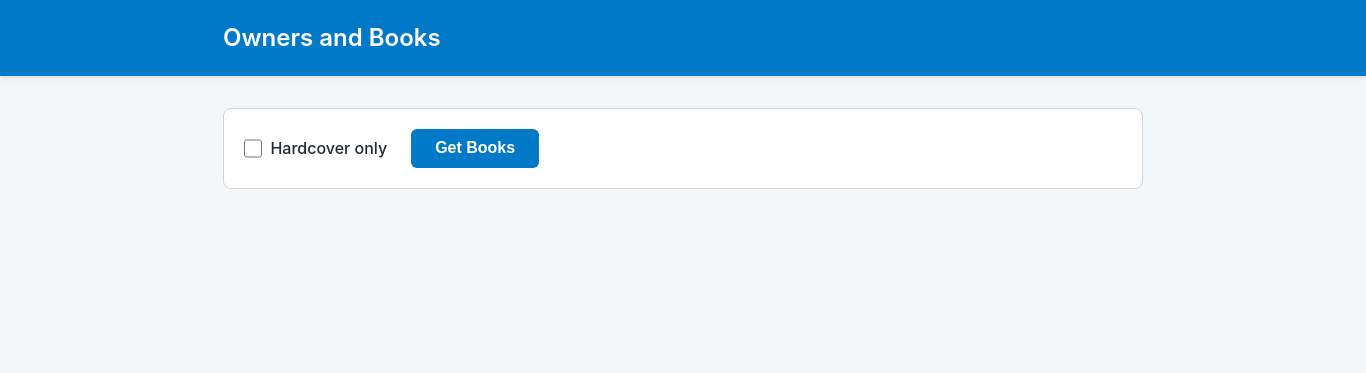
Scenario: App › fetches and displays categorized books when Get Books is clicked
Click the button "Get Books": (475, 148) [411, 129, 539, 168]
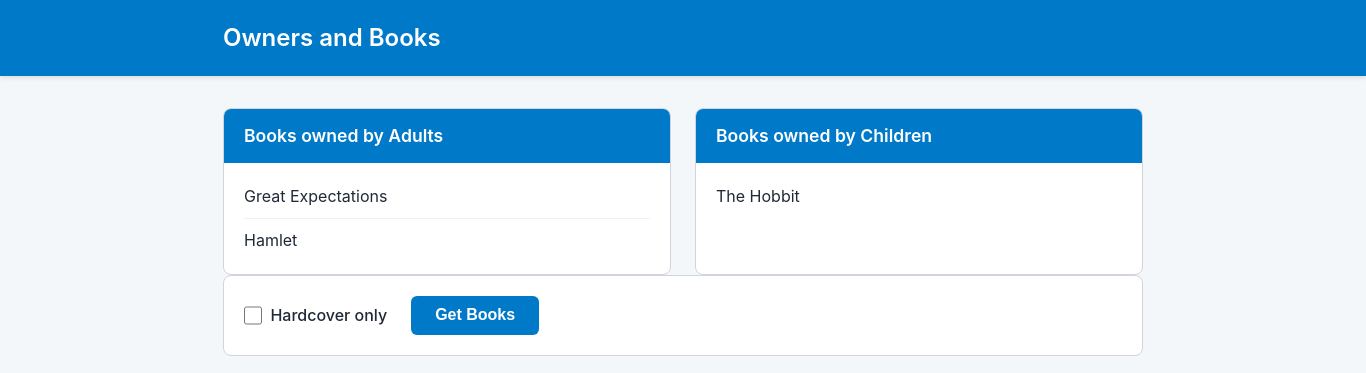
Now the heading "Books owned by Adults" is shown, box [224, 109, 670, 163]
Now the heading "Books owned by Children" is shown, box [696, 109, 1142, 163]
Now the list item "Great Expectations" is shown, box [244, 175, 650, 219]
